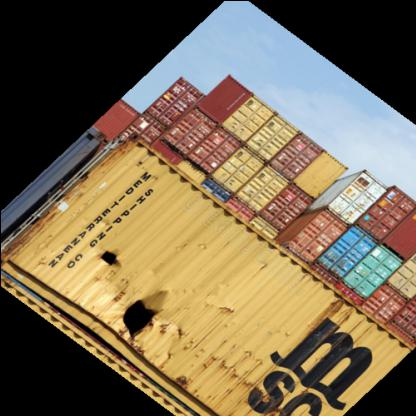Damage: (105, 278, 166, 361), (172, 334, 248, 384), (89, 223, 135, 280)
